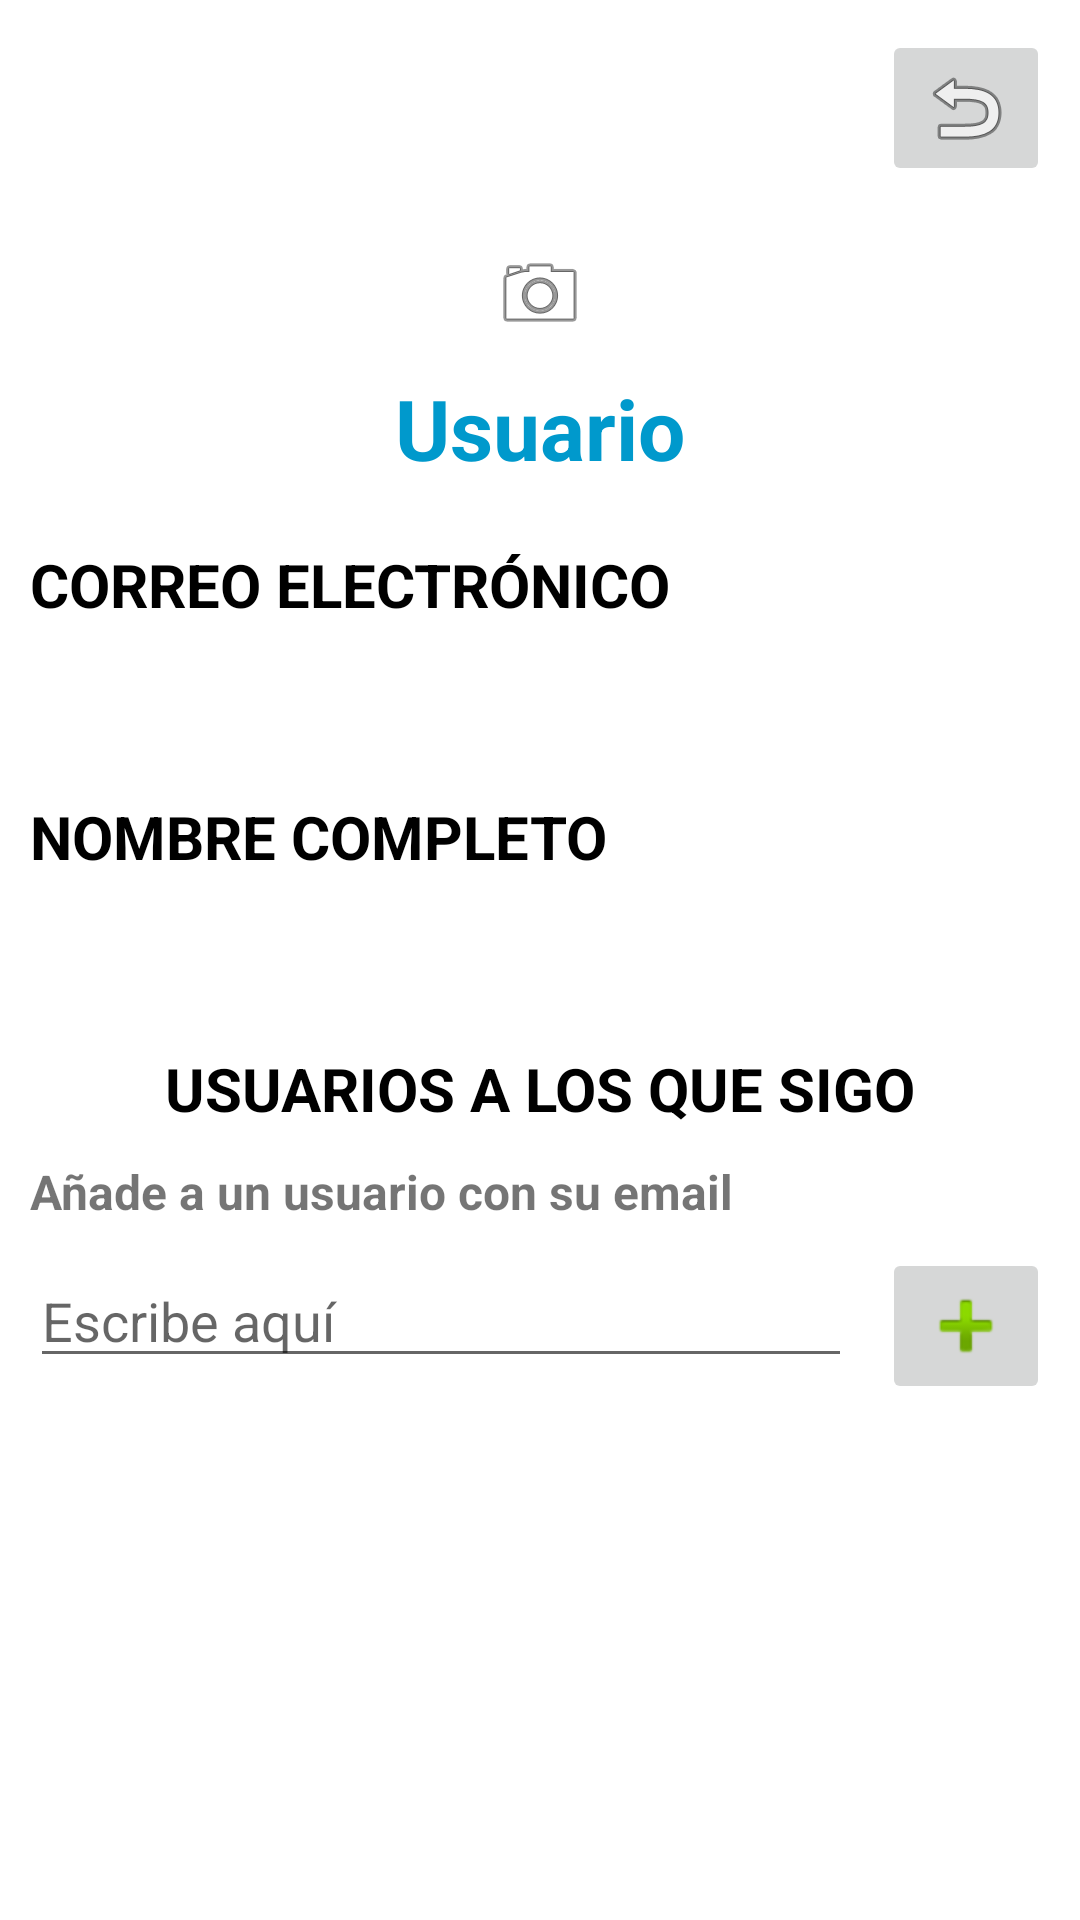

Icon click points for this 1080 x 1920 phone screenshot, format (x,y):
add: (966,1326)
camera: (540,292)
revert: (966,108)
